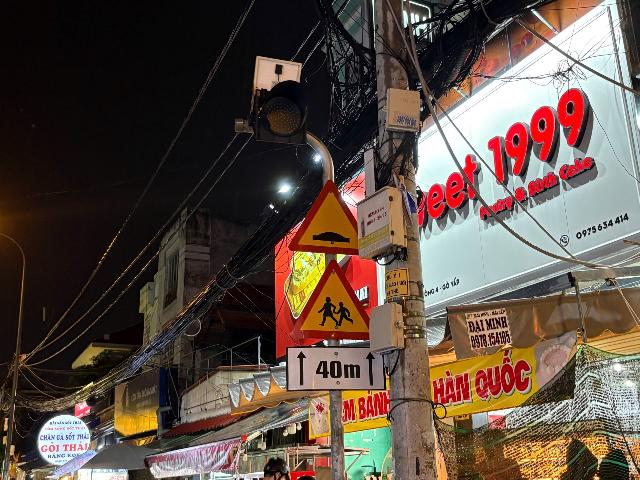duong-co-go-giam-toc: (288, 179, 359, 256)
tre-em-qua-duong: (292, 260, 368, 341)
